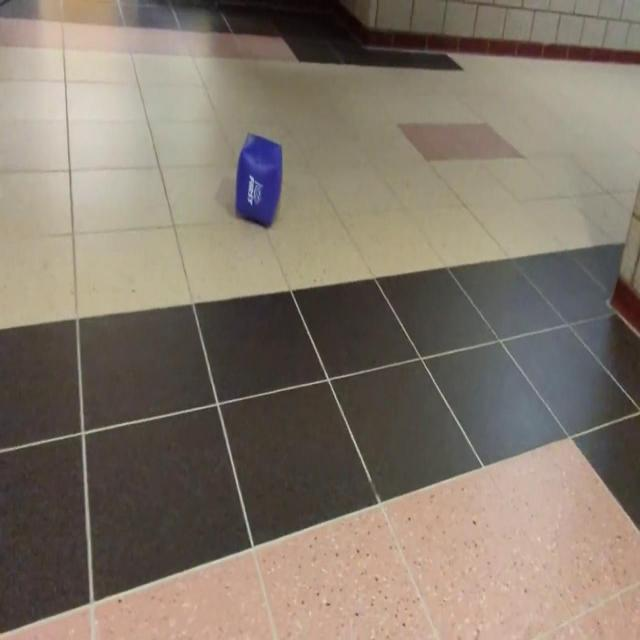frc_cube: (236, 135, 282, 227)
